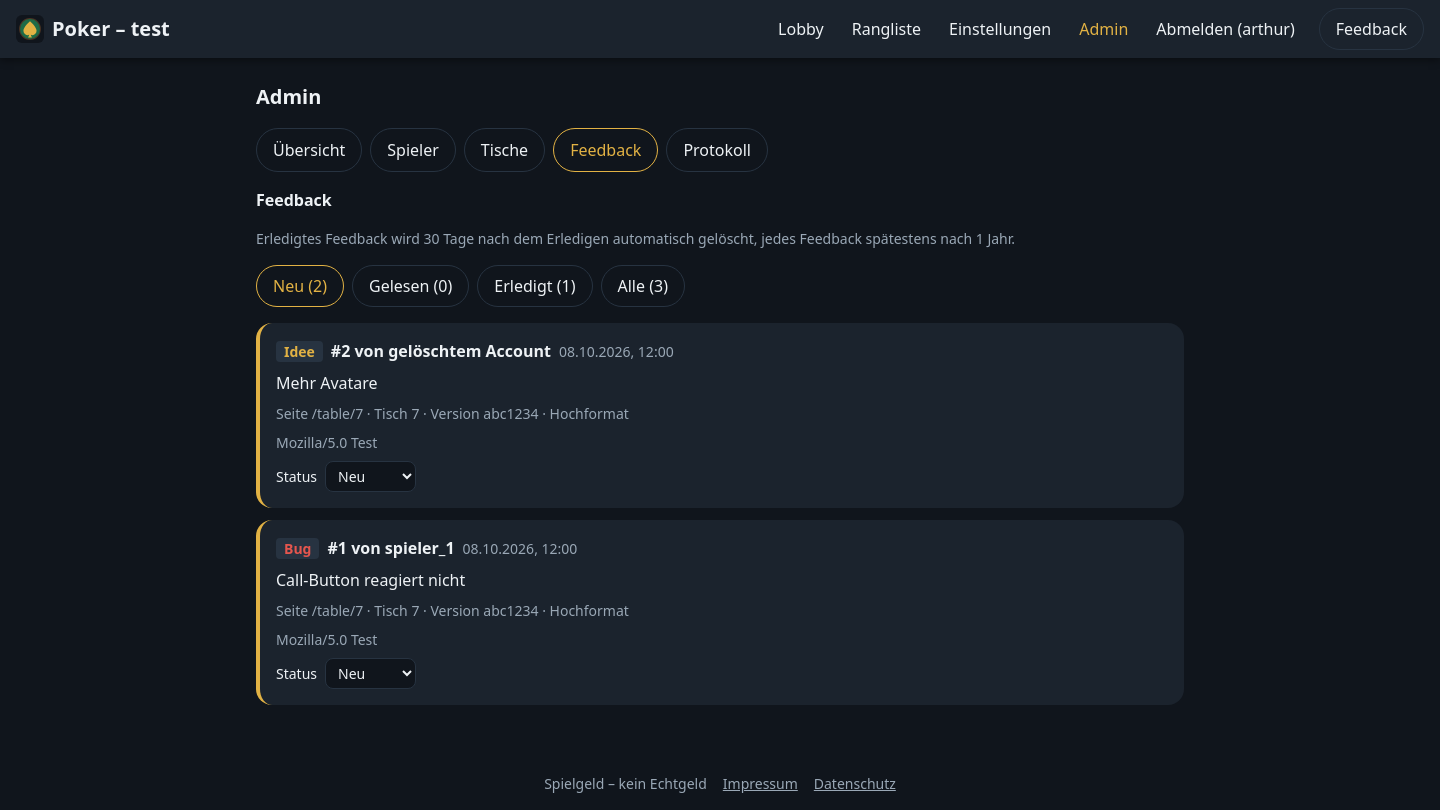
Test: /admin/feedback › ändert den Status und lädt die Liste neu
Select "Gelesen" in the dropdown named "Status von #1" at point(370, 674), box [325,658,416,689]
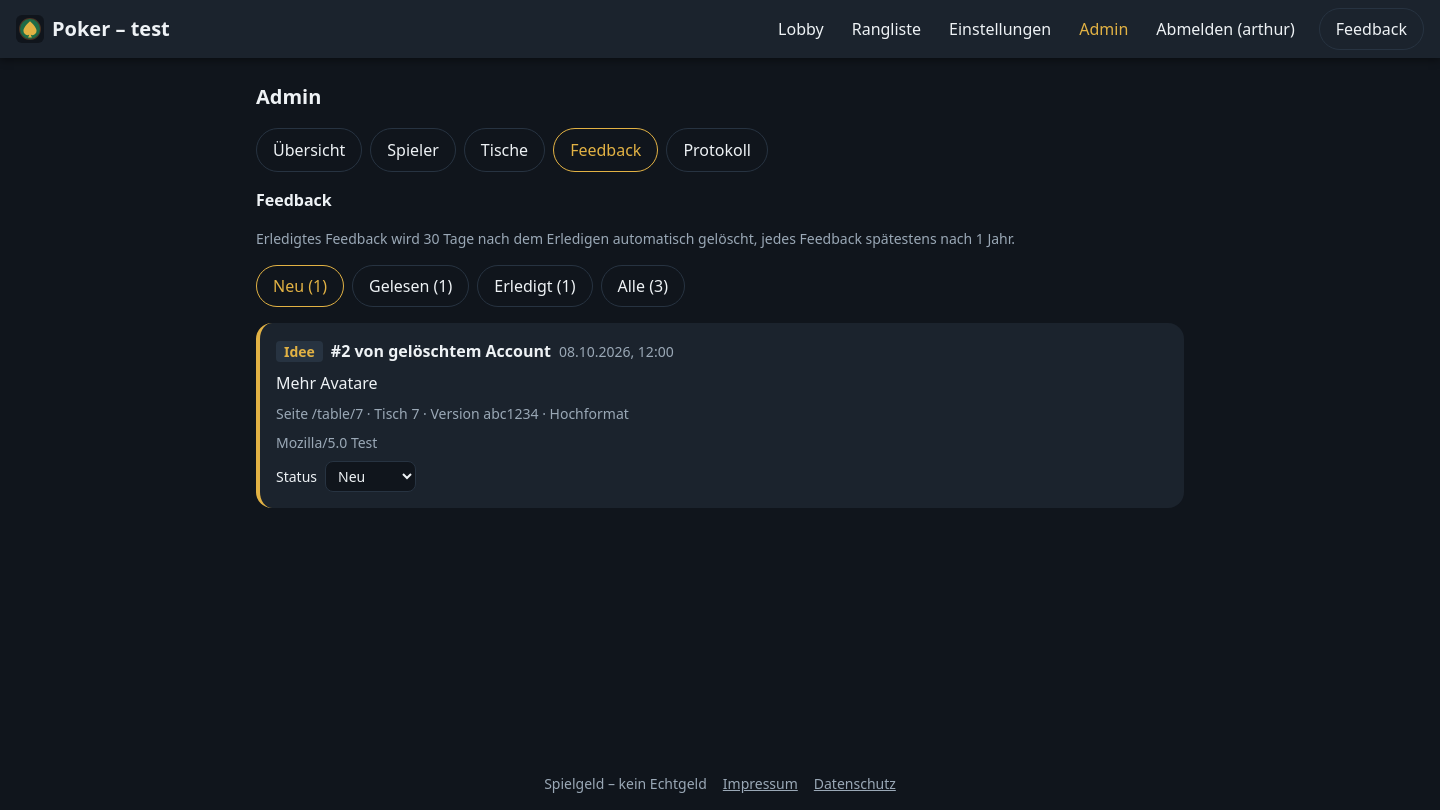
Now the button "Gelesen (1)" is shown, box [352,265,469,307]
